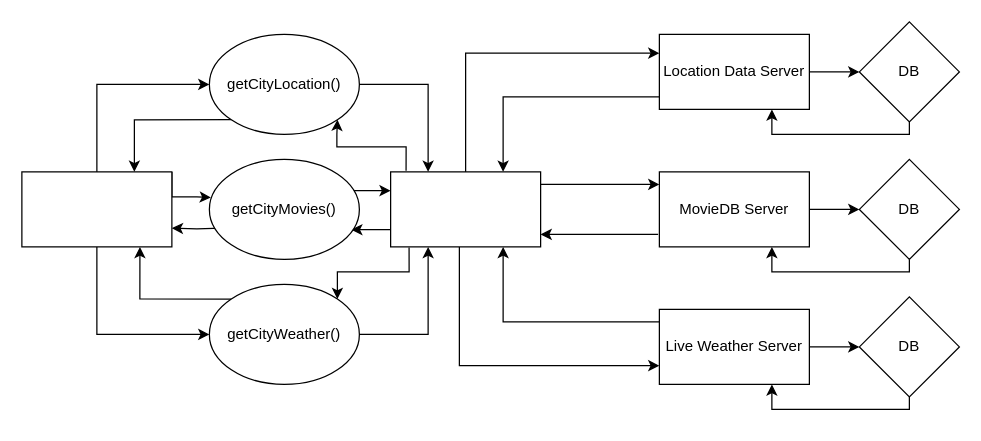
Some shapes in this 981 by 441 pixel diagram are drawn without their labels. The shapes that lost their labels are listed below. From the top down, each one's centre as x and y in pixels, then its label:
At point (96, 209): "City Explorer".
At point (465, 209): "City Explorer API".
